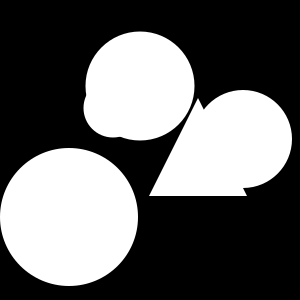rectangle: (0, 148, 138, 286), (86, 32, 194, 140), (194, 90, 292, 188), (84, 78, 142, 138)
triangle: (149, 98, 247, 196)
